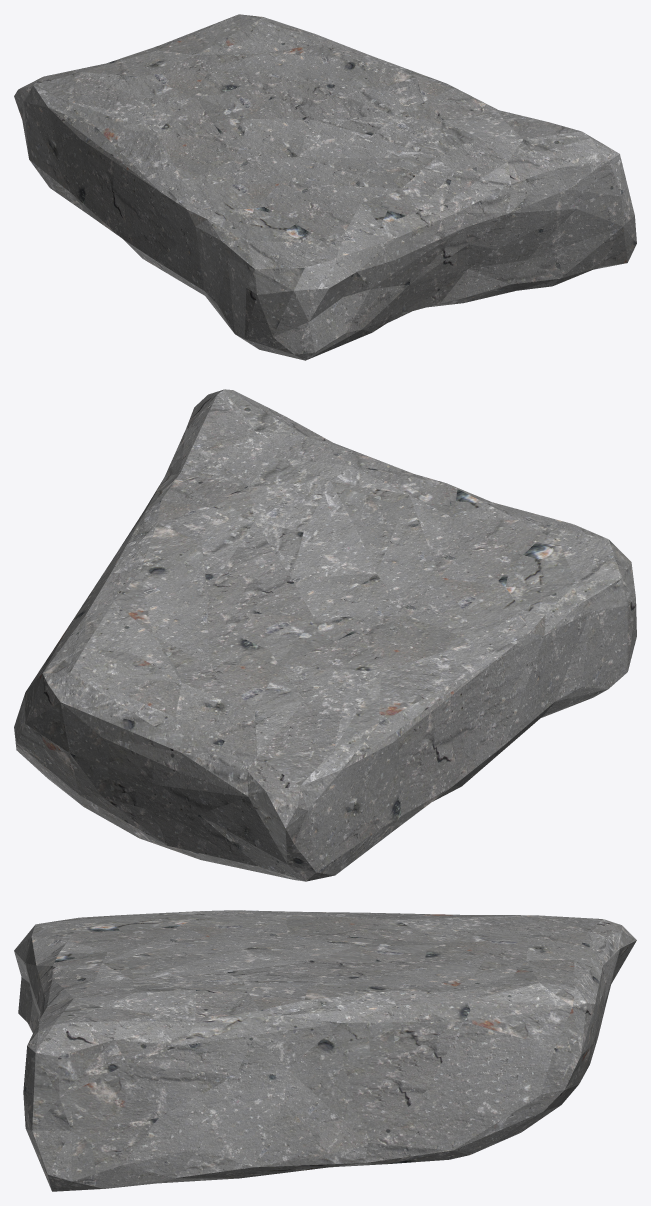
File: Intresto_rock_for_landscape_03.dae
3 views of the same model, one above another, from view 1: azimuth 30°, elevation 25°; view 2: azimuth 150°, elevation 25°; view 3: azimuth 270°, elevation 25° (orthographic). The views are drawn at different scales.
Parts seen in each view (by area): view 1: group_0; view 2: group_0; view 3: group_0.
Part boxes in pixels (bbox=[...]): group_0: bbox=[14, 14, 636, 360]; group_0: bbox=[14, 389, 636, 881]; group_0: bbox=[14, 910, 636, 1191].
Size of the model in its own units: 14.39 by 18.76 by 5.6.
